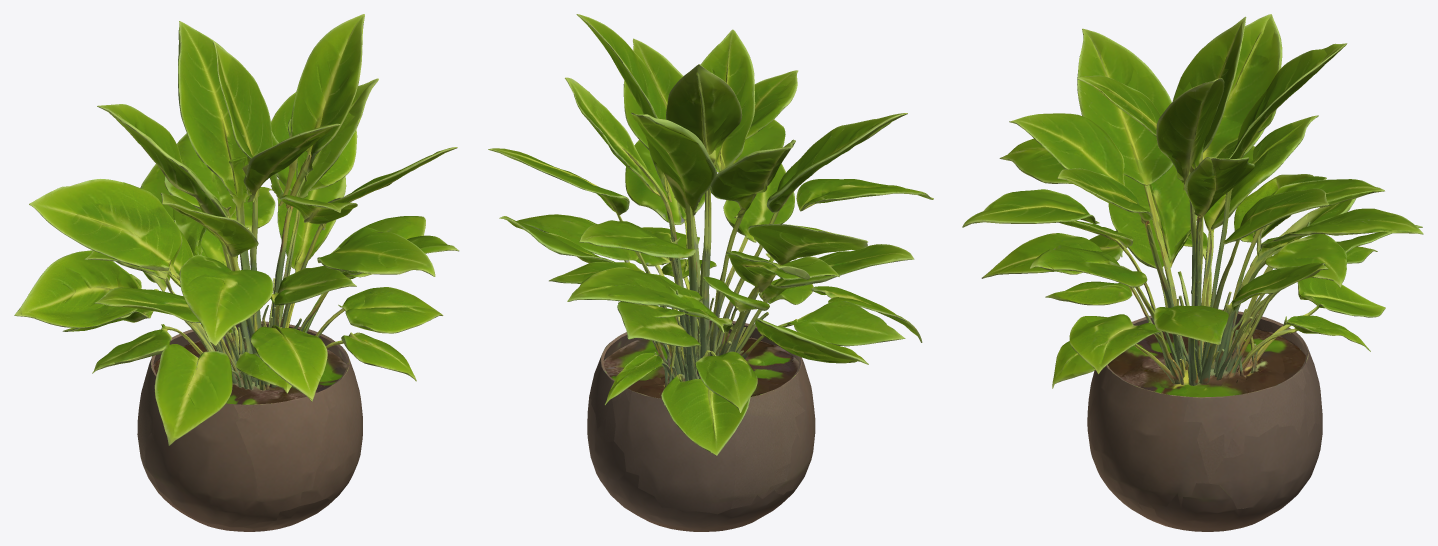
3 renders of one model, left to right at view 1: azimuth 30°, elevation 25°; view 2: azimuth 150°, elevation 25°; view 3: azimuth 270°, elevation 25°, orthographic. The views are drawn at different scales.
Size of the model in its own units: 1.66 by 1.9 by 1.65.
1 material, 1 textured.
